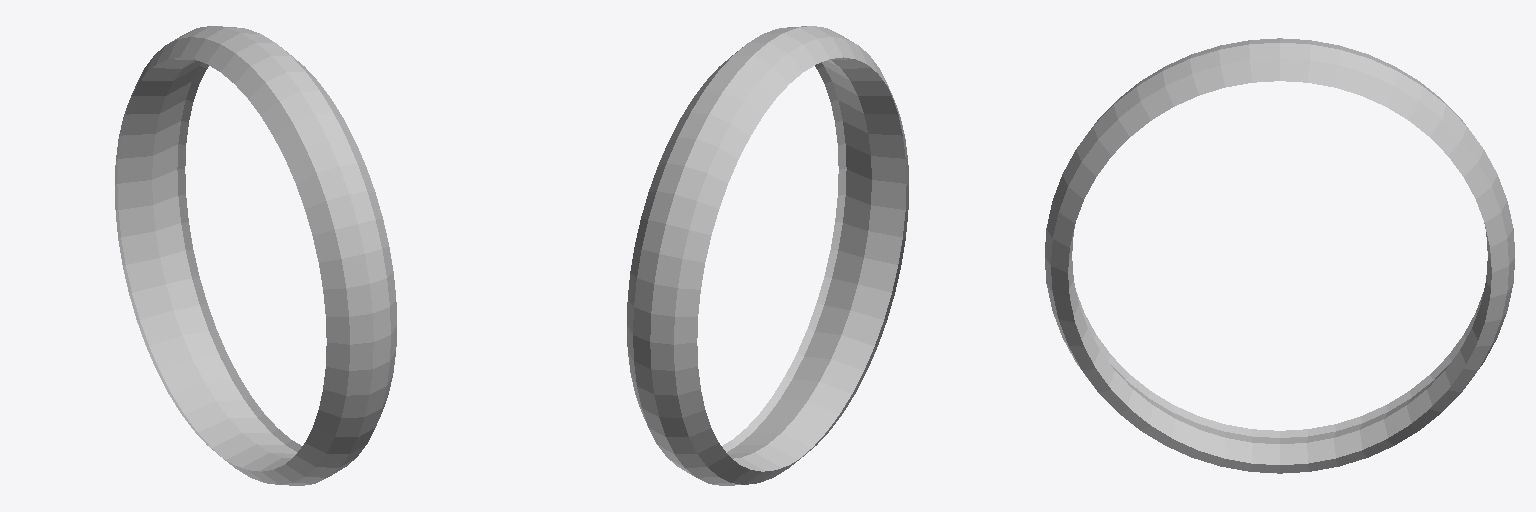
The model's file is auraPowerup.obj.
3 renders of one model, left to right at view 1: azimuth 30°, elevation 25°; view 2: azimuth 150°, elevation 25°; view 3: azimuth 270°, elevation 25°, orthographic.
Visible parts, largest first — view 1: Torus; view 2: Torus; view 3: Torus.
Part boxes in pixels (bbox=[...]): Torus: bbox=[115, 26, 396, 485]; Torus: bbox=[627, 26, 908, 485]; Torus: bbox=[1045, 38, 1514, 473].
Bounding box in the file's own units: 0.433 × 2.5 × 2.5.